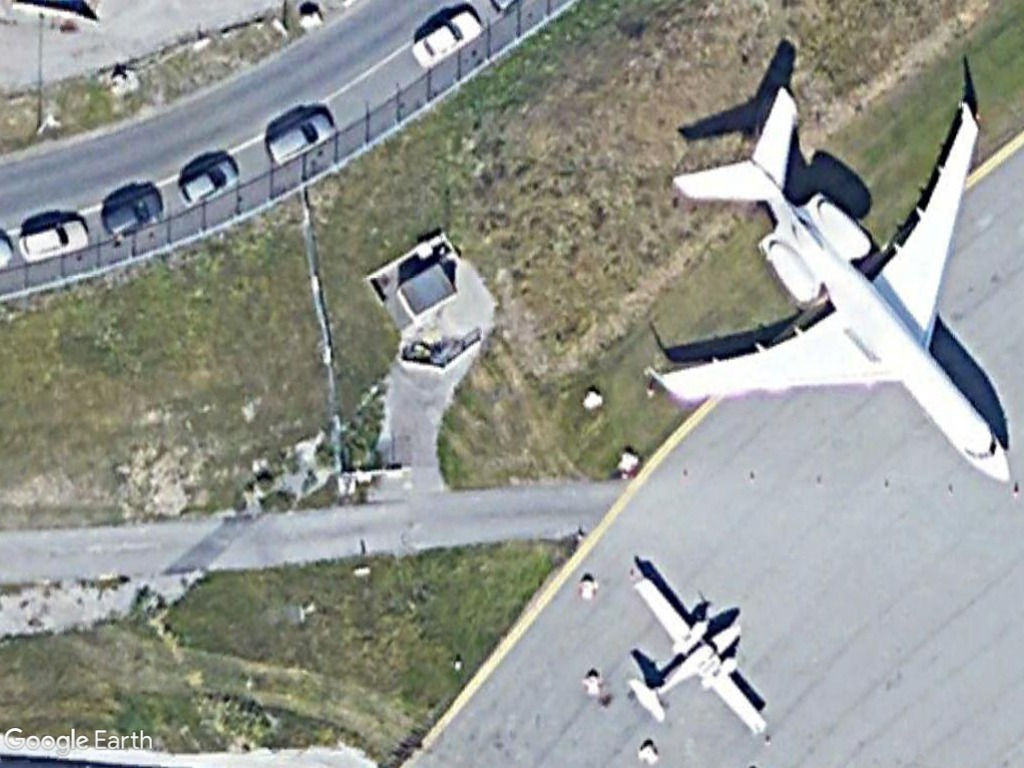car: (405, 5, 486, 75), (259, 104, 337, 171), (12, 209, 91, 270), (98, 181, 170, 243), (174, 151, 245, 210)
chartered: (643, 81, 1024, 491)
propeller: (613, 571, 775, 743)
